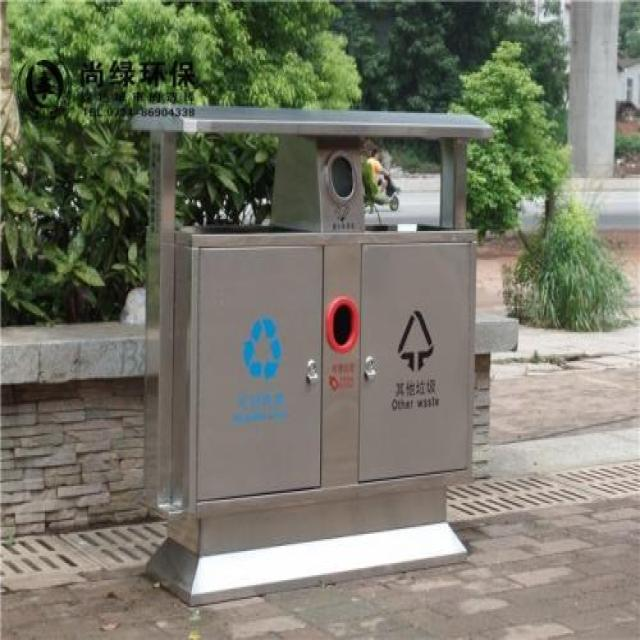garbage_bin: (130, 101, 492, 604)
